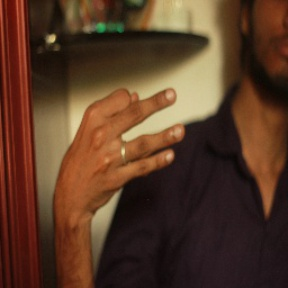K: (56, 85, 188, 202)
